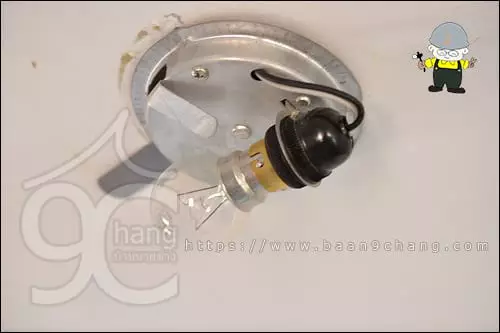Light_bulb: (144, 144, 282, 254)
